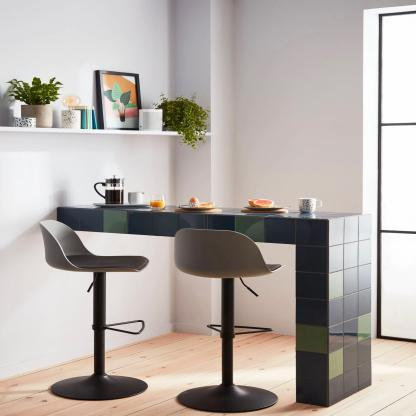chair: (167, 219, 286, 416), (40, 214, 156, 403)
table: (30, 195, 382, 413)
